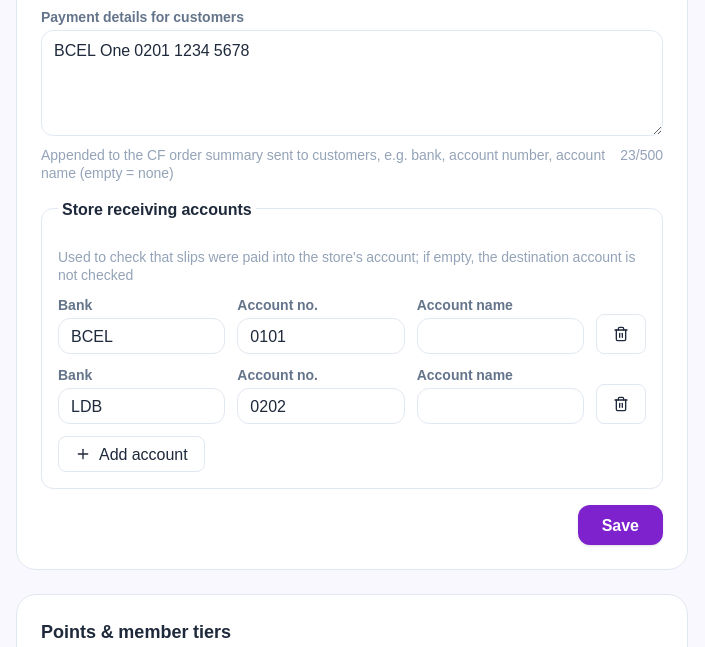
Test: StoreSettingsForm › ບັນຊີຮັບເງິນ (receivingAccounts) › error ບອກແຖວ + ໝາຍ aria-invalid ຖືກ field; ລ້າງເມື່ອແກ້ ຫຼື ເພີ່ມ/ລຶບແຖວ
The image size is (705, 647).
(page scrolled)
Expected: the 1st field showing "BCEL" is shown, [58,318,225,354]
Step 1. Replace the text in the 2nd field labelled "Account no." with "abc" → [321, 406], box [237,388,405,424]
Step 2. Click the button "Save" → [620, 524], box [578,504,663,544]
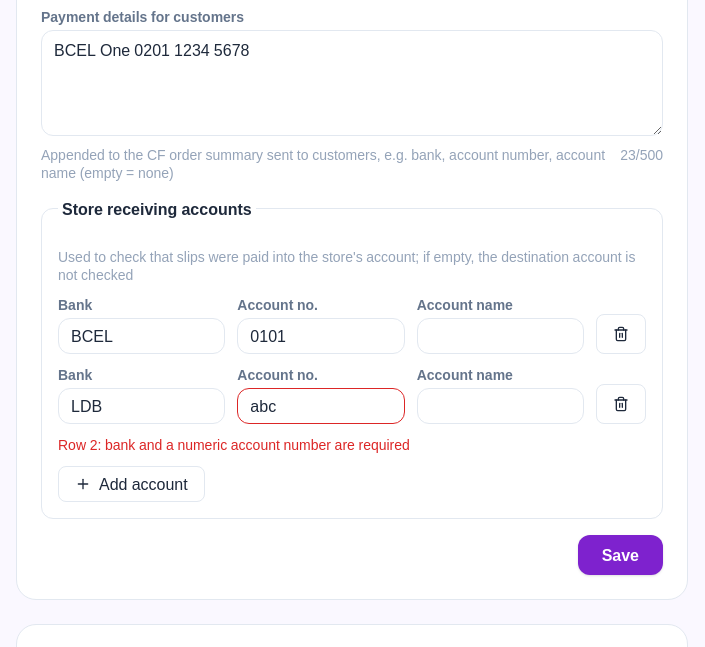
Expected: the text "Row 2: bank and a numeric account number are required" is shown, [58,432,410,456]
Step 3. Type "1" into the 2nd field labelled "Account no." → [321, 406], box [237,388,405,424]
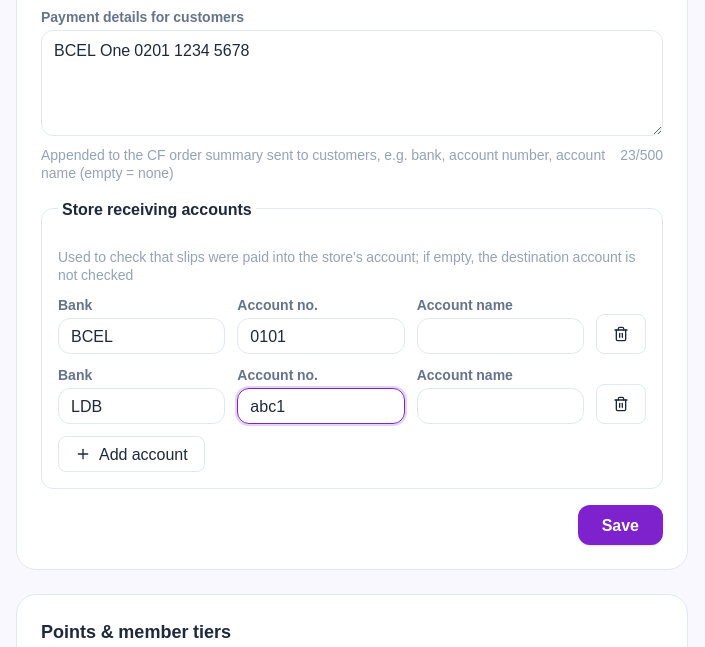
Expected: the text "Row 2" is gone
Step 4. Replace the text in the 2nd field labelled "Account no." with "abc" → [321, 406], box [237,388,405,424]
Step 5. Click the button "Save" → [620, 524], box [578,504,663,544]
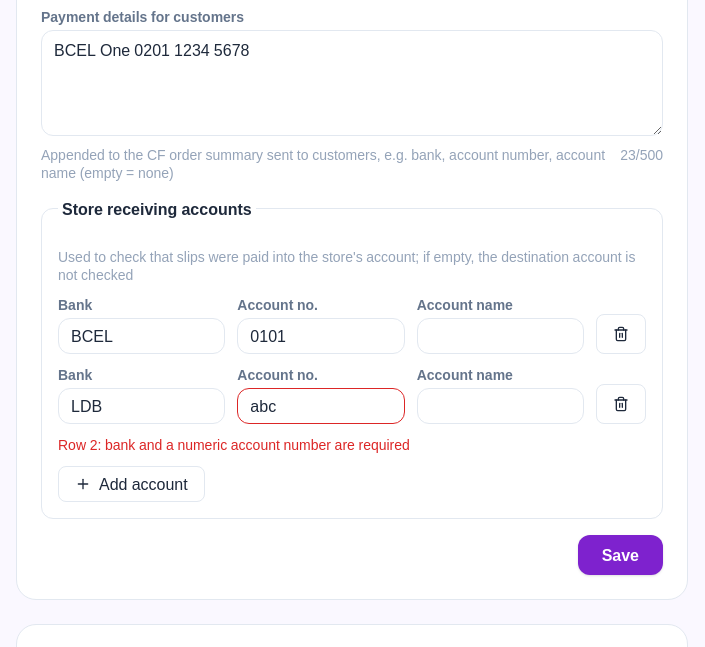
Expected: the text "Row 2: bank and a numeric account number are required" is shown, [58,432,410,456]
Step 6. Click the button "Add account" → [131, 484], box [58,466,205,502]
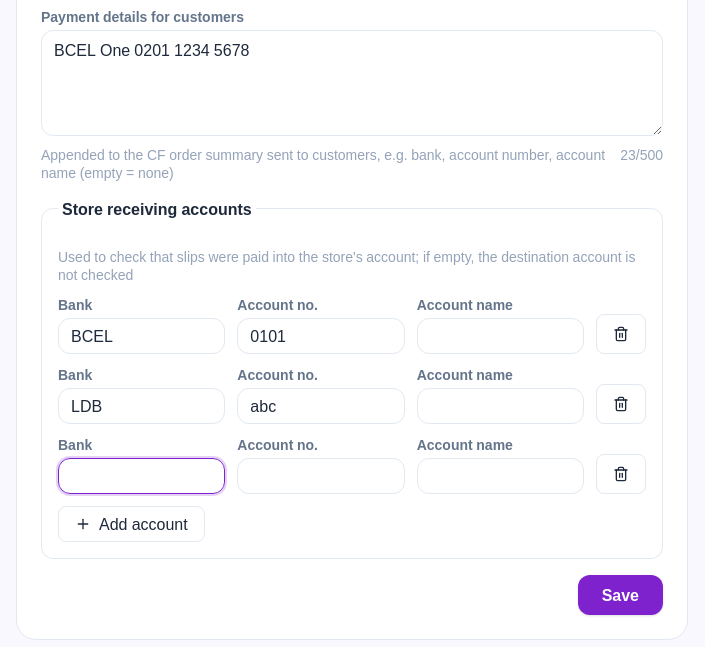
Expected: the text "Row 2" is gone
Step 7. Click the button "Save" → [620, 594], box [578,574,663,614]
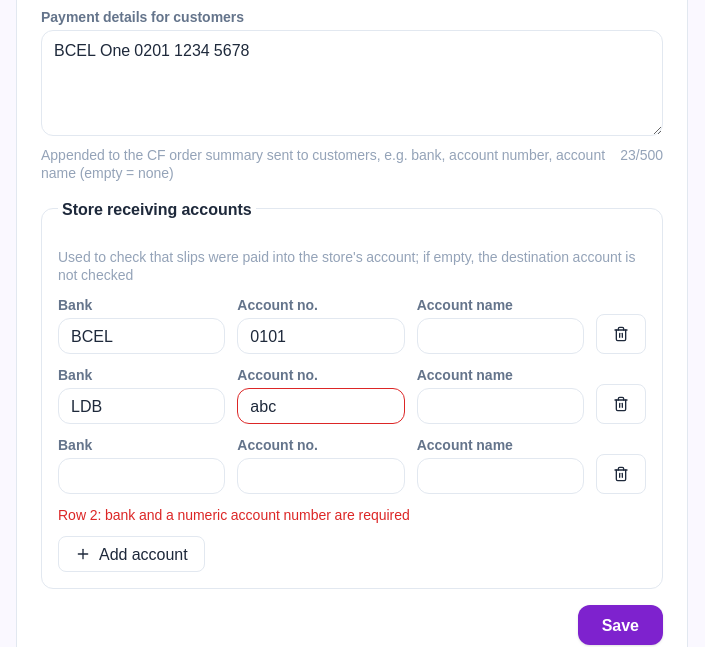
Expected: the text "Row 2: bank and a numeric account number are required" is shown, [58,502,410,526]
Step 8. Click the button named "Remove account 3" → [621, 474], box [596,454,646,494]
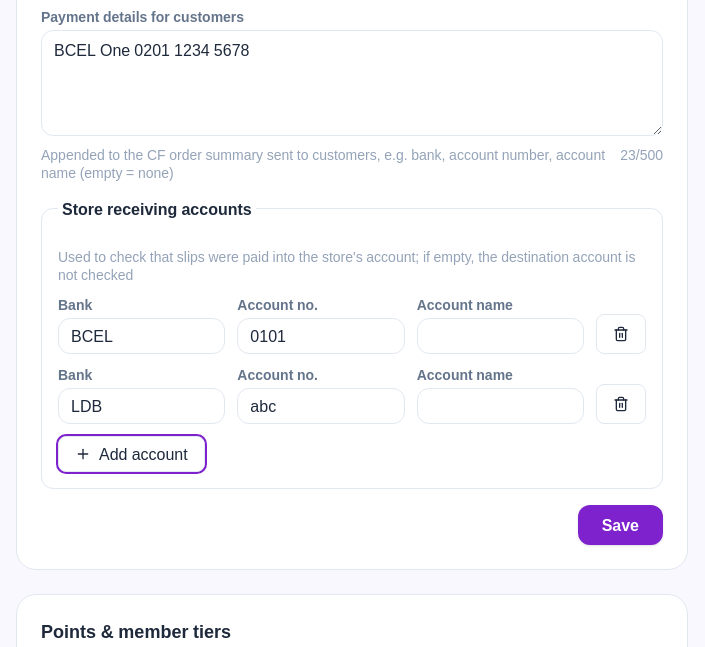
Expected: the text "Row" is gone
